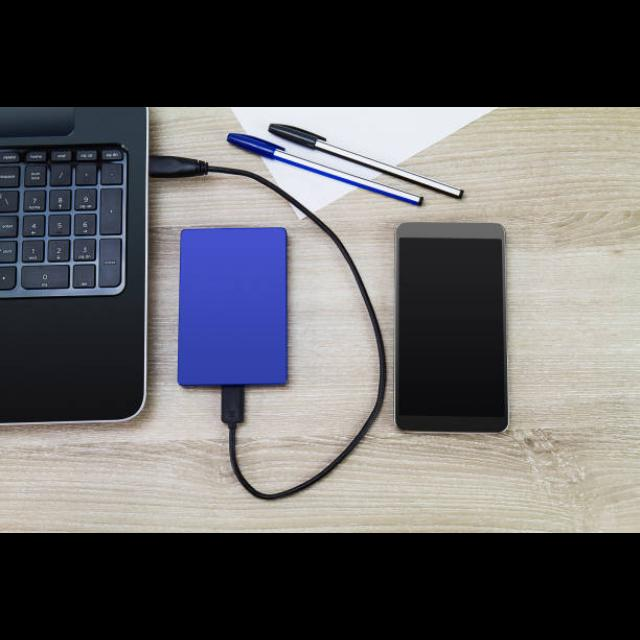HDD: (176, 227, 289, 388)
